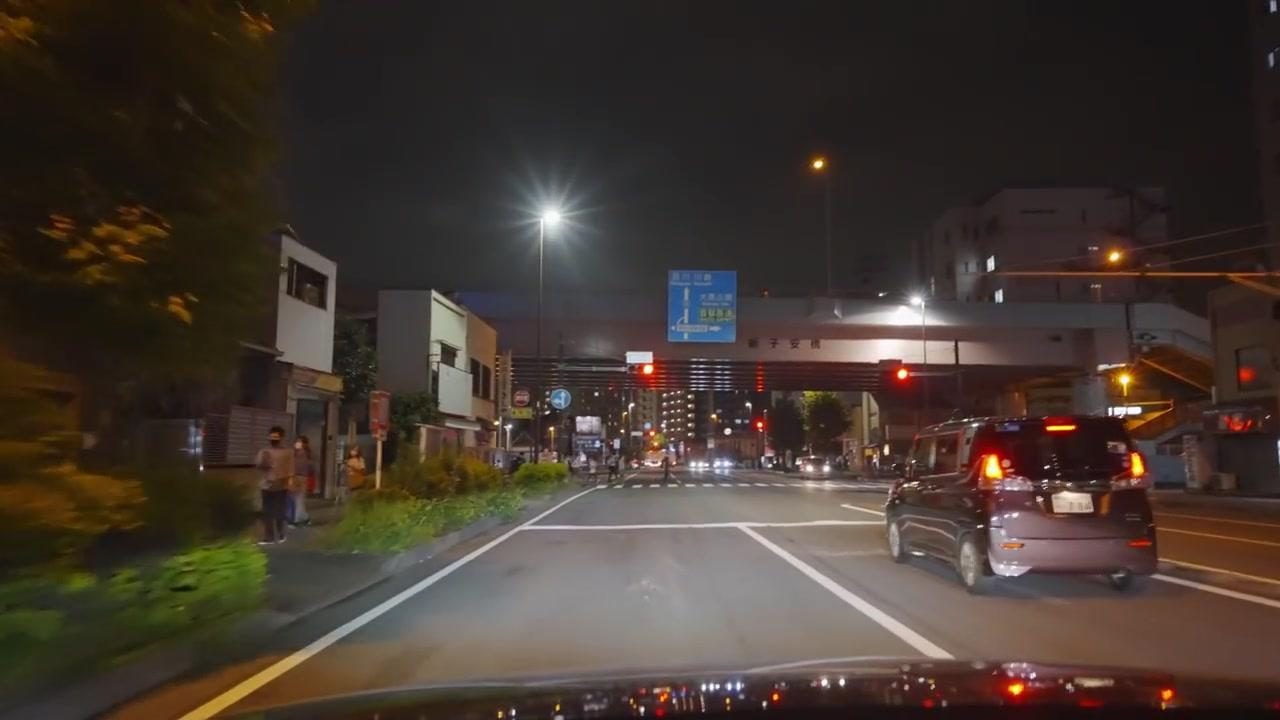car: (882, 413, 1159, 593), (797, 456, 831, 476)
person: (255, 428, 295, 544), (289, 434, 316, 528), (344, 446, 366, 493)
traffic light: (1104, 246, 1127, 268), (638, 361, 655, 383), (895, 367, 914, 386), (755, 419, 765, 432)
